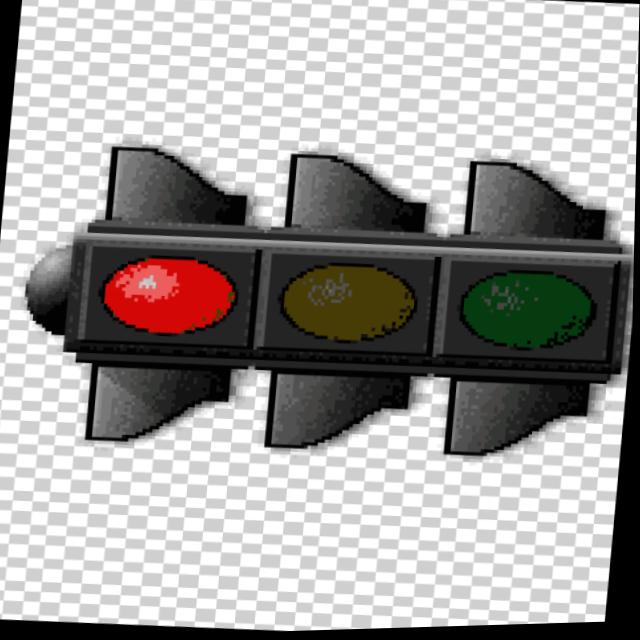red_light: (62, 218, 272, 363)
